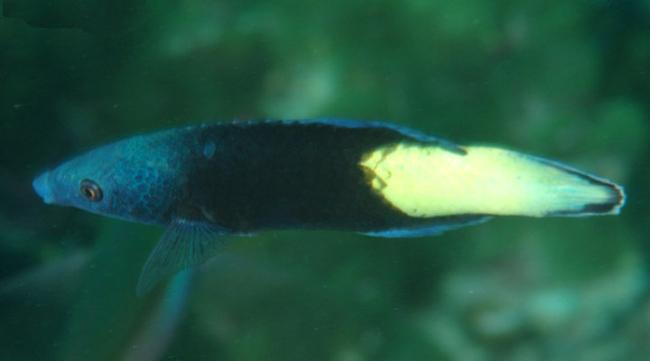fish: (32, 117, 627, 302)
